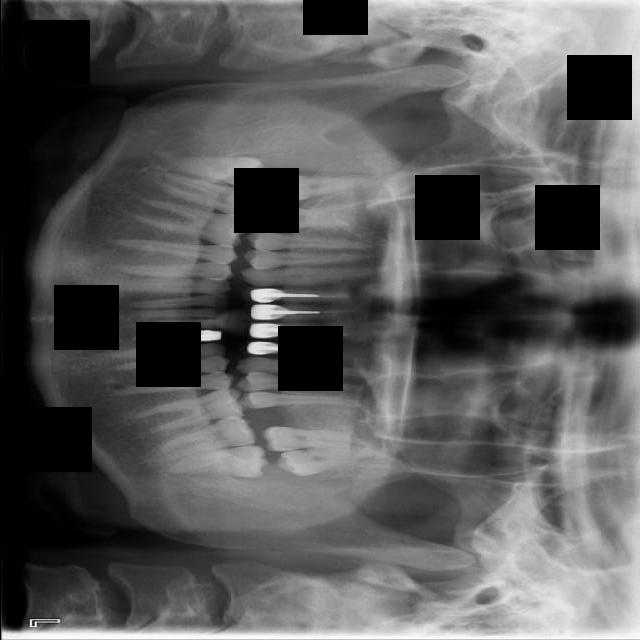3M ESPE Implant: (272, 175, 382, 204)
52: (238, 320, 287, 339), (241, 303, 287, 322), (240, 285, 283, 305), (238, 339, 280, 356), (177, 329, 223, 343)
73: (280, 323, 355, 341), (275, 342, 352, 359), (281, 289, 352, 304), (280, 306, 354, 320), (128, 330, 181, 343), (48, 618, 58, 622)
BioHorizons Implant: (260, 426, 364, 452)
BioLife Implant: (275, 443, 381, 479)
Biomet 3i Implant: (175, 442, 268, 479)
Blue Sky Bio Implant: (156, 413, 257, 462)
Implant: (160, 171, 263, 222)
Keystone Dental Implant: (169, 154, 263, 187)
